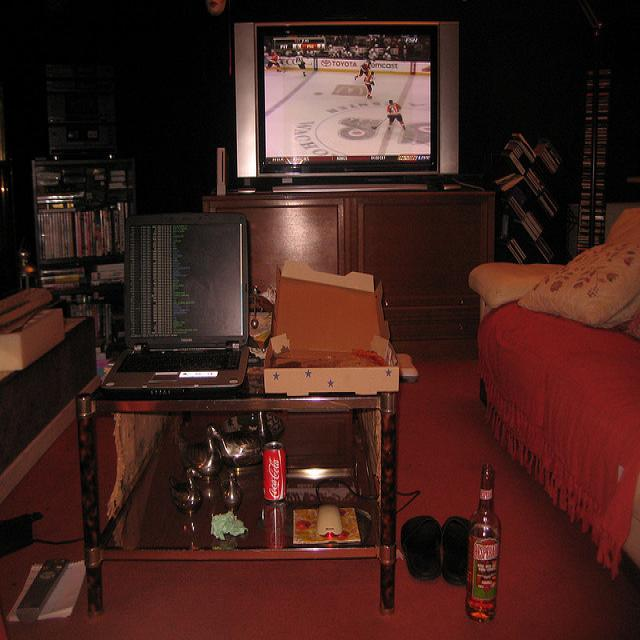Bottle: (451, 464, 513, 614), (260, 414, 294, 513)
Cup: (163, 466, 228, 549), (229, 418, 260, 511), (192, 419, 227, 487)
Table: (62, 311, 433, 620)
chair: (459, 167, 640, 640)
